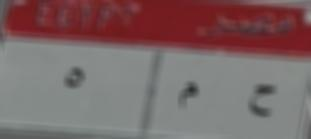5: (59, 62, 92, 98)
7aa: (244, 74, 278, 124)
meem: (165, 74, 203, 116)
